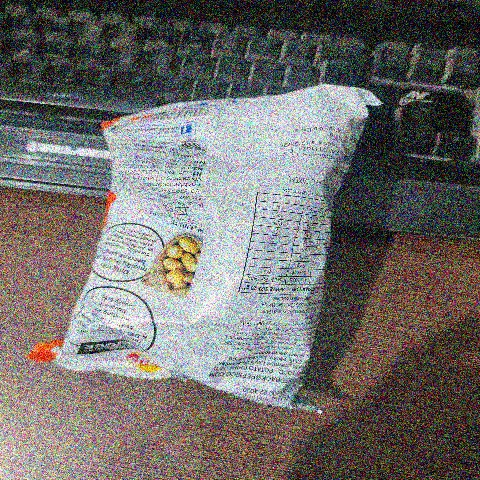lays_orange_pack: (69, 78, 374, 415)
